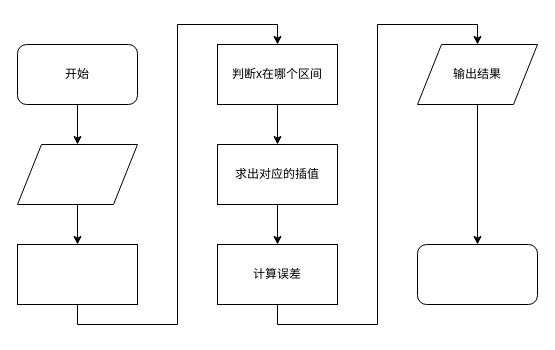
The diagram is 555 pixels wide and 350 high, and some of its shapes have lost their labels. Here are the shapes that lost their labels. From the top down, the centre of each, then its label:
At [77,174]: "输入数据点和x".
At [77,274]: "追赶法解三转角方程".
At [477,274]: "结束".
